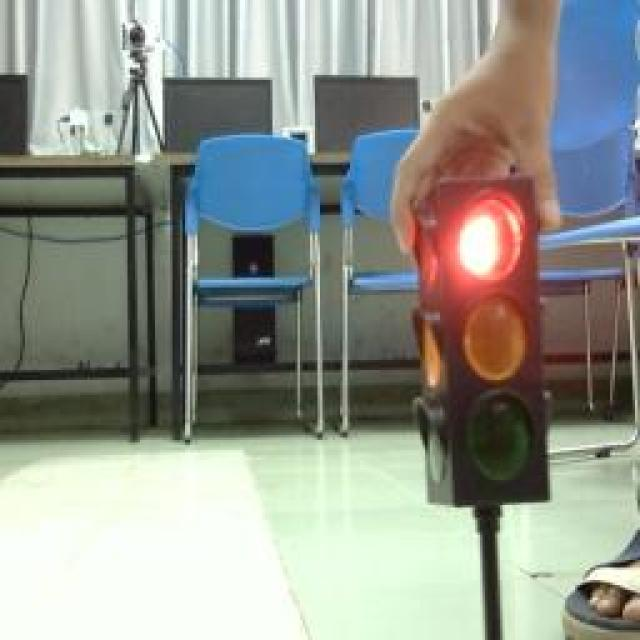-: (453, 190, 531, 287)
